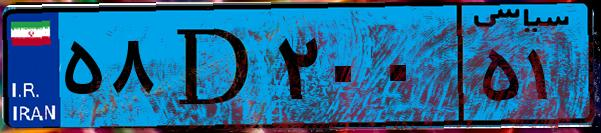0: (385, 28, 445, 110), (330, 28, 385, 110)
1: (525, 38, 570, 115)
2: (270, 28, 330, 110)
5: (57, 26, 110, 100), (475, 38, 525, 113)
8: (110, 28, 158, 98)
D: (158, 12, 270, 120)
